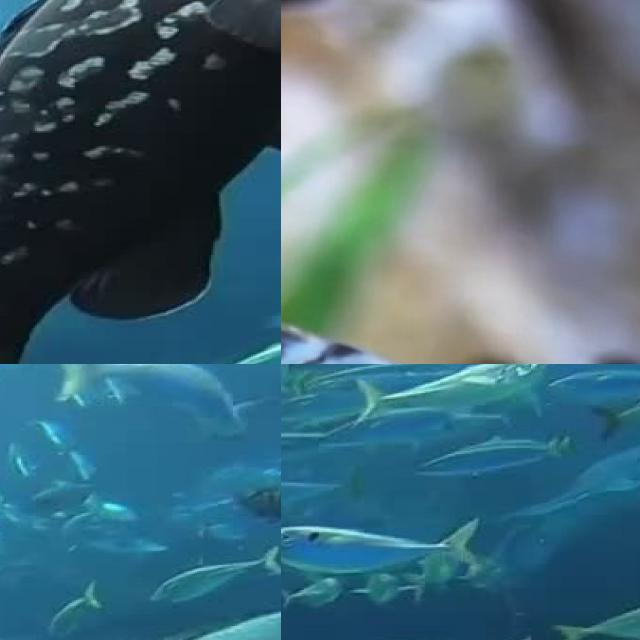fish: (0, 0, 281, 364), (281, 250, 452, 364)
